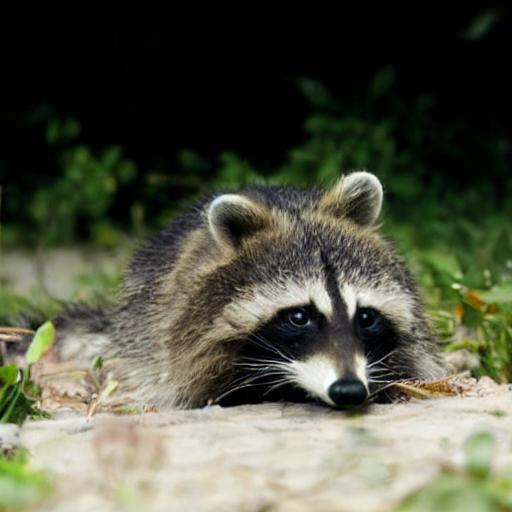raccoon: (89, 160, 454, 414)
